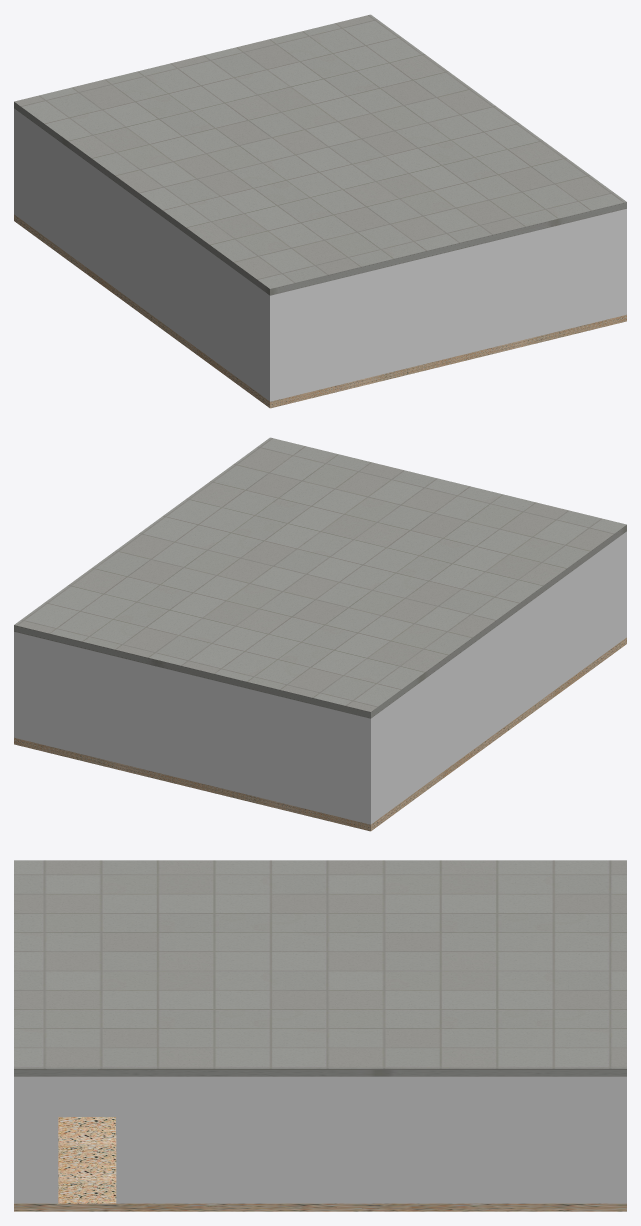
File: AulaTerminada.fbx
The picture shows the model from 3 angles, top to bottom: view 1: azimuth 30°, elevation 25°; view 2: azimuth 150°, elevation 25°; view 3: azimuth 270°, elevation 25°; orthographic projection. The views are drawn at different scales.
Visible parts, largest first — view 1: Techo, Pared4, Pared1, Piso, Pared3; view 2: Techo, Pared3, Pared1, Piso, Pared4; view 3: Techo, Pared2, Piso, ParedCostadoPuerta, ParedArribaPuerta, Pared3, Pared4.
Part boxes in pixels (x1,y1,x2,y2): Techo: (14,14,626,295); Pared4: (264,209,626,401); Pared1: (19,113,264,397); Piso: (14,214,626,408); Pared3: (14,108,19,217); Techo: (14,437,626,718); Pared3: (14,632,376,824); Pared1: (376,536,621,820); Piso: (14,637,626,831); Pared4: (621,531,626,640); Techo: (14,860,626,1076); Pared2: (116,1076,613,1203); Piso: (14,1117,626,1211); ParedCostadoPuerta: (27,1076,58,1203); ParedArribaPuerta: (58,1076,115,1116); Pared3: (613,1076,626,1203); Pared4: (14,1076,27,1203).
Size of the model in its own units: 1110 by 355 by 1380.
Materials: 15 (14 with a texture image).
